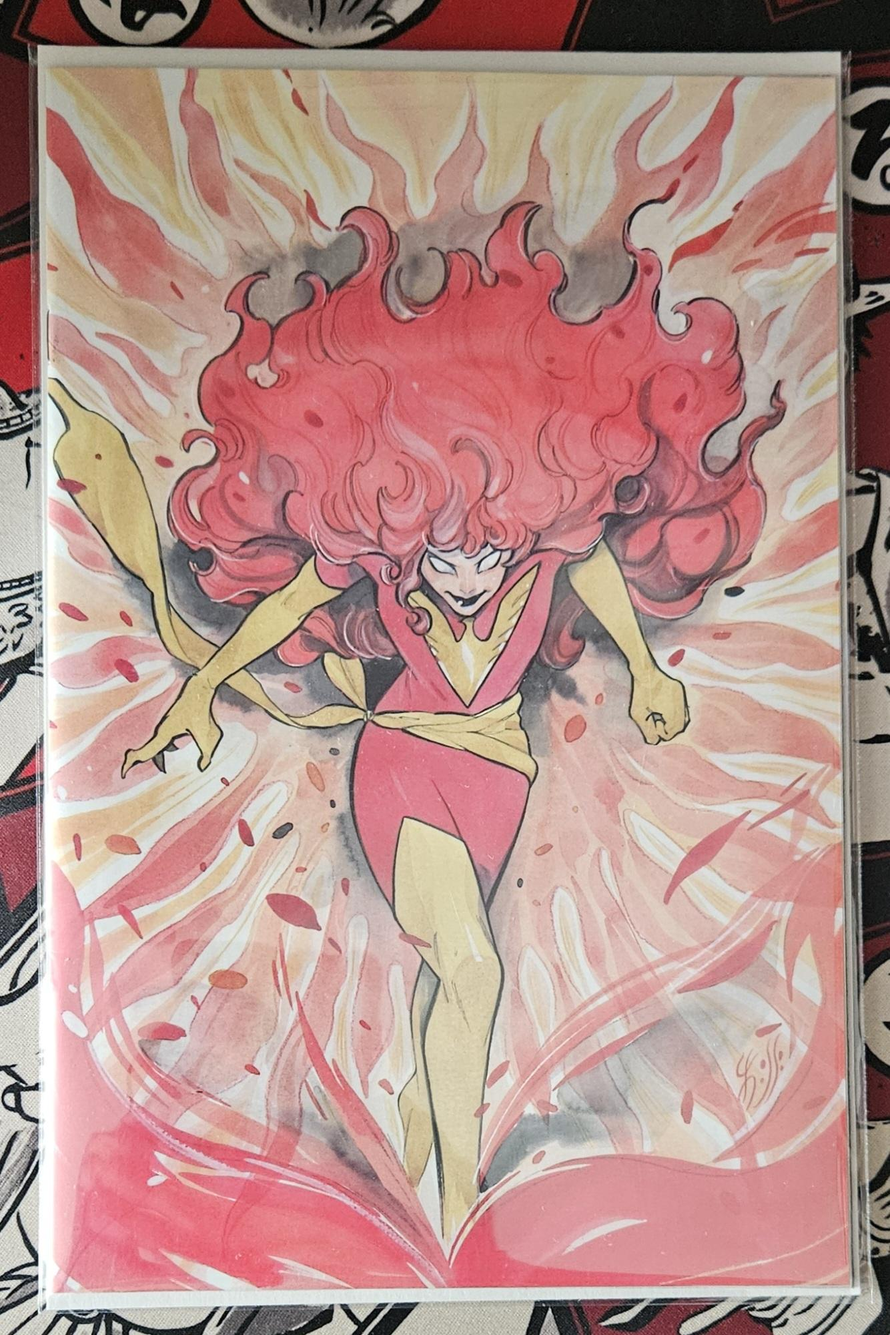comic: (41, 52, 853, 1306)
